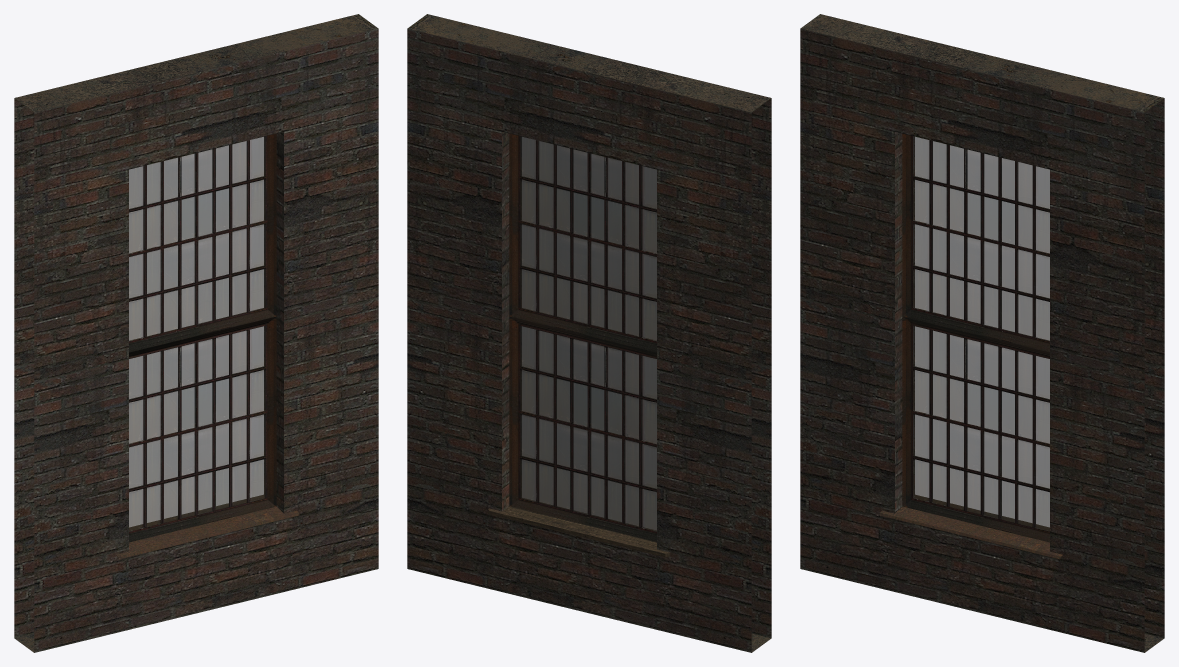
File: wall_hs_1_m_2.dae
The picture shows the model from 3 angles, left to right: view 1: azimuth 30°, elevation 25°; view 2: azimuth 150°, elevation 25°; view 3: azimuth 330°, elevation 25°; orthographic projection.
Visible parts, largest first — view 1: wall_hs_1_m_2; view 2: wall_hs_1_m_2; view 3: wall_hs_1_m_2.
Part boxes in pixels (x1=…): wall_hs_1_m_2: x1=14, y1=14, x2=378, y2=652; wall_hs_1_m_2: x1=407, y1=14, x2=771, y2=652; wall_hs_1_m_2: x1=800, y1=14, x2=1164, y2=652.
Bounding box in the file's own units: 4 × 0.505 × 6.
Materials: 6 (6 with a texture image).
